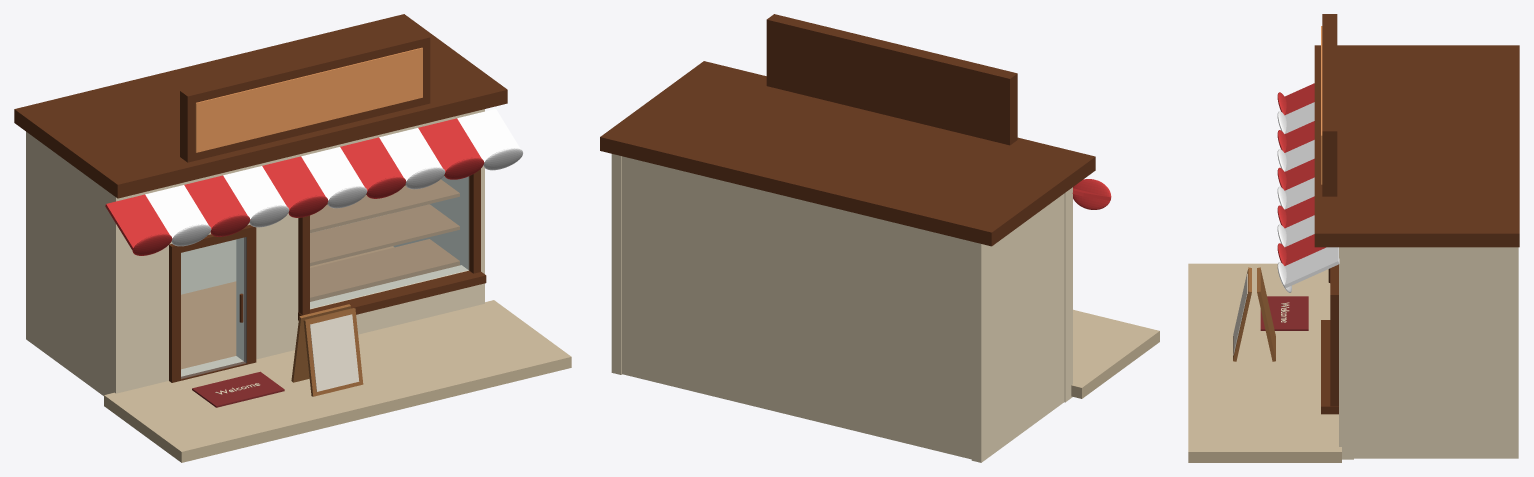
Rendered from prebakeryshop.glb.
3 views of the same model, side by side, from view 1: azimuth 30°, elevation 25°; view 2: azimuth 150°, elevation 25°; view 3: azimuth 270°, elevation 25° (orthographic).
Parts seen in each view (by area): view 1: Floor_Front, Roof, Wall_SideL, Window_Glass, Sign_Face, Wall_L, Door_Glass, Sign_Frame, Wall_Mid, Shelf_0, Shelf_1, Floor_Inside (+34 smaller); view 2: Wall_Back, Roof, Wall_SideL, Sign_Frame, Floor_Front, Wall_SideR, Wall_L, Awning_Scallop0; view 3: Roof, Wall_SideR, Floor_Front, Wall_R, Sign_Frame, DoorMat, Awning_Stripe9, WinFrame_Sill, WinFrame_R, Board_Back, Awning_Stripe8, Awning_Stripe5 (+9 smaller).
Boxes of the visible parts, x1,y1,x2,y2 form: Floor_Front: (104, 300, 571, 462); Roof: (14, 14, 507, 198); Wall_SideL: (26, 132, 108, 395); Window_Glass: (310, 176, 468, 308); Sign_Face: (195, 47, 422, 152); Wall_L: (108, 184, 177, 393); Door_Glass: (181, 237, 246, 378); Sign_Frame: (180, 32, 430, 162); Wall_Mid: (236, 153, 305, 360); Shelf_0: (310, 239, 459, 301); Shelf_1: (310, 204, 459, 266); Floor_Inside: (181, 246, 393, 369); Wall_Back: (622, 156, 971, 459); Roof: (600, 61, 1095, 246); Wall_SideL: (971, 193, 1064, 462); Sign_Frame: (766, 14, 1017, 145); Floor_Front: (1071, 309, 1159, 398); Wall_SideR: (611, 154, 621, 374); Wall_L: (1064, 187, 1072, 402); Awning_Scallop0: (1073, 179, 1111, 209); Roof: (1314, 45, 1519, 247); Wall_SideR: (1354, 247, 1518, 458); Floor_Front: (1188, 263, 1341, 462); Wall_R: (1339, 247, 1353, 459); Sign_Frame: (1322, 14, 1337, 196); DoorMat: (1260, 296, 1308, 330); Awning_Stripe9: (1284, 247, 1339, 288); WinFrame_Sill: (1321, 320, 1338, 414); WinFrame_R: (1330, 302, 1338, 406); Board_Back: (1257, 267, 1275, 361); Awning_Stripe8: (1285, 234, 1325, 265); Awning_Stripe5: (1284, 177, 1314, 209).
Size of the model in its own units: 7.4 by 5.45 by 5.5.
